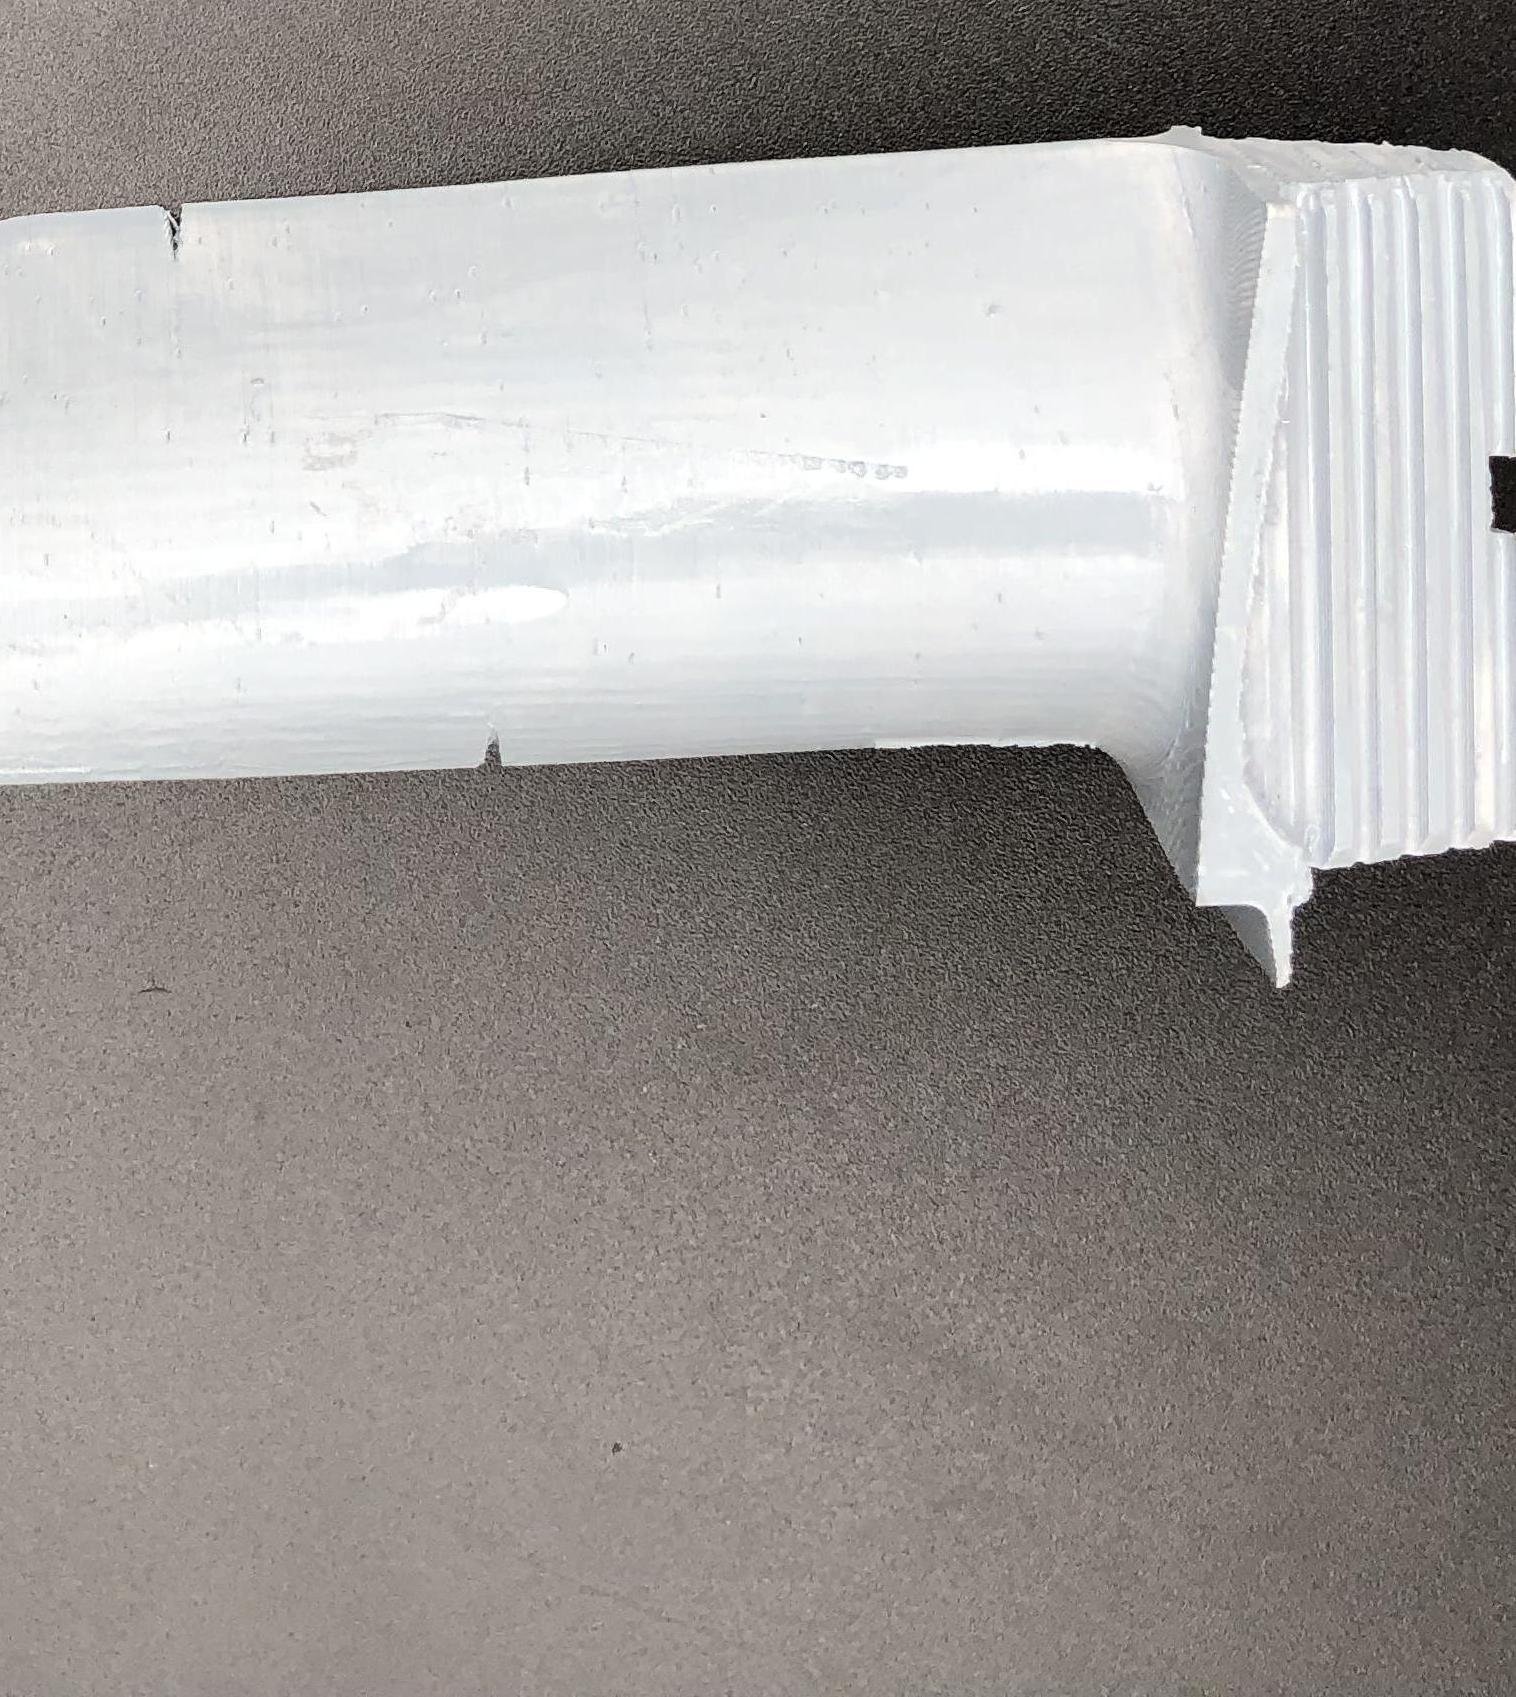groove: (468, 717, 536, 768), (154, 200, 206, 263)
